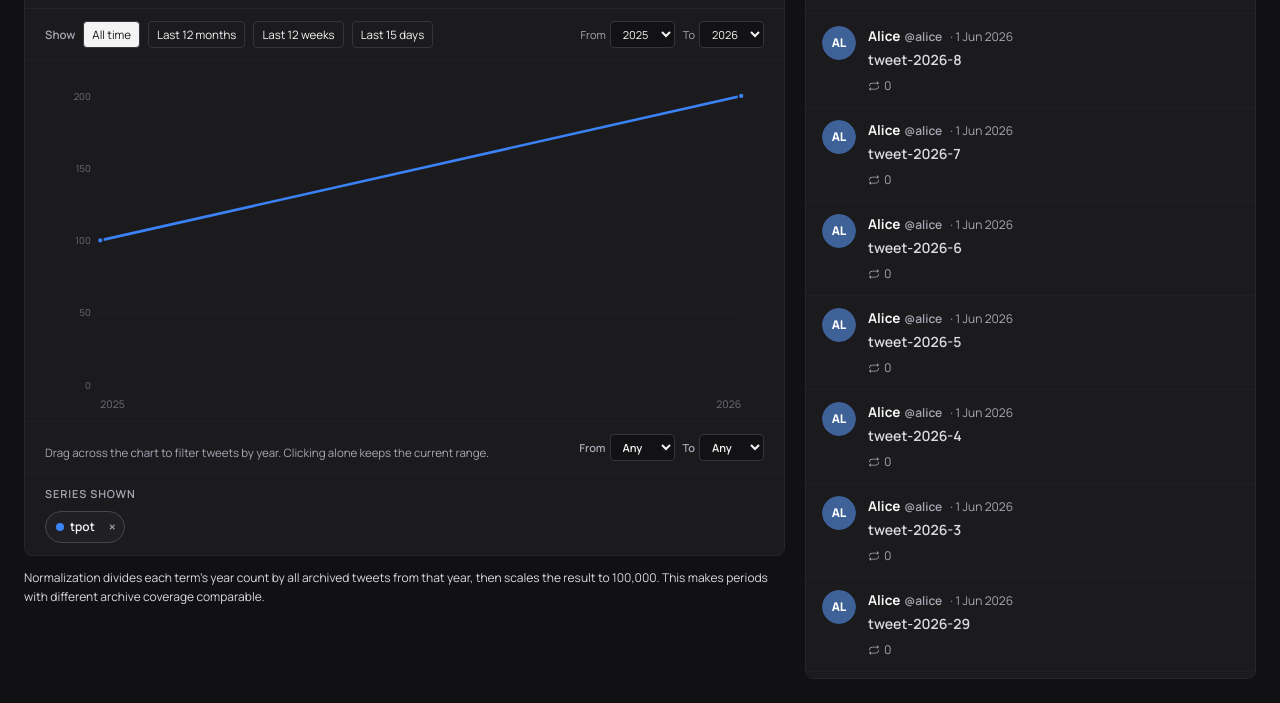
TrendsExplorer request isolation › loads an exact range page even when broader cached evidence is visible
(page scrolled)
Select "2026" in the dropdown named "Tweets from year": x=642, y=448 [610, 434, 674, 461]
Wait 1200 ms
(page scrolled)
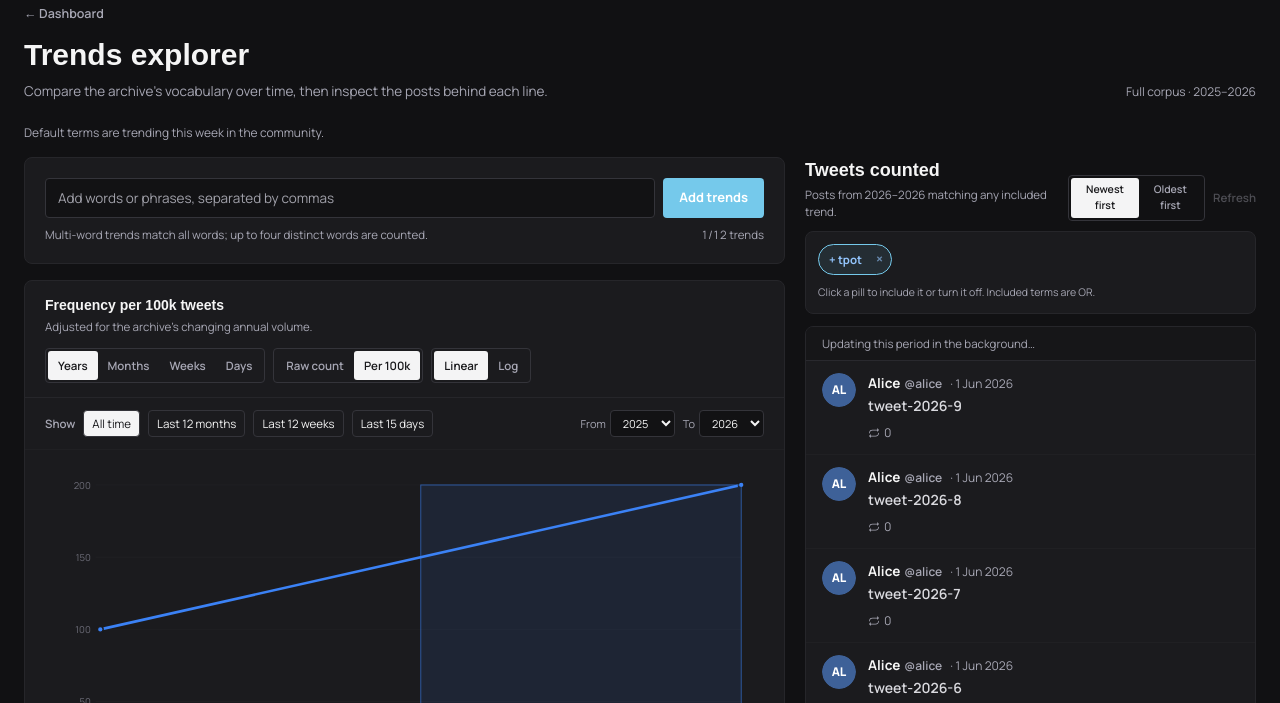
expect the text "Updating this period in the background…" is shown: met, box [806, 326, 1255, 361]
